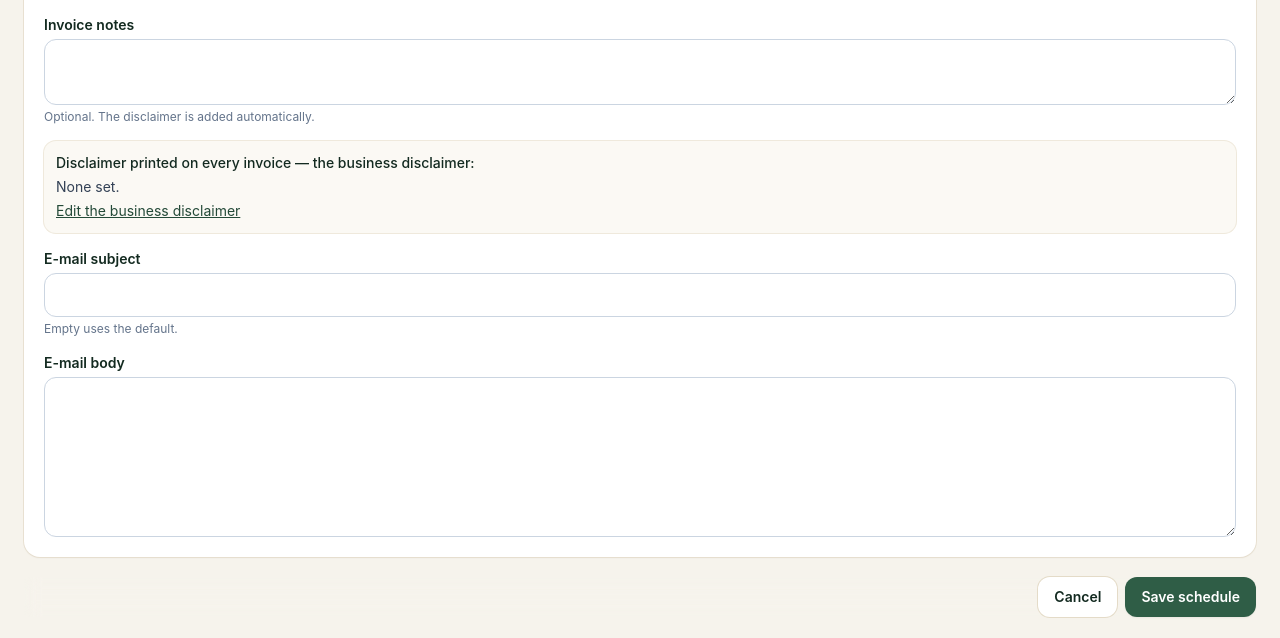
Test: a product no longer available, or without a price in the currency, says what to do
This screenshot has width=1280, height=638.
(page scrolled)
What coordinates should you click on to do the following:
click the button "Save schedule"
I would click on:
 (1191, 596)
Its box is [1125, 576, 1256, 616].
(page scrolled)
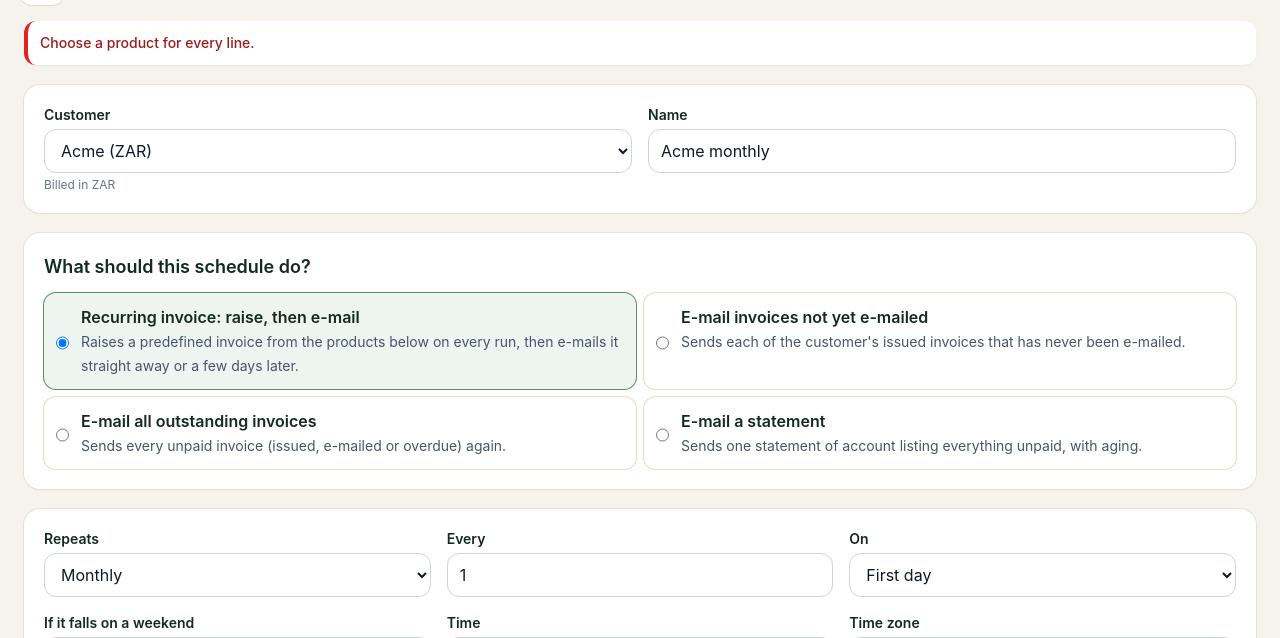
Check: the text "Choose a product for every line." is shown, box [24, 21, 1256, 65]
